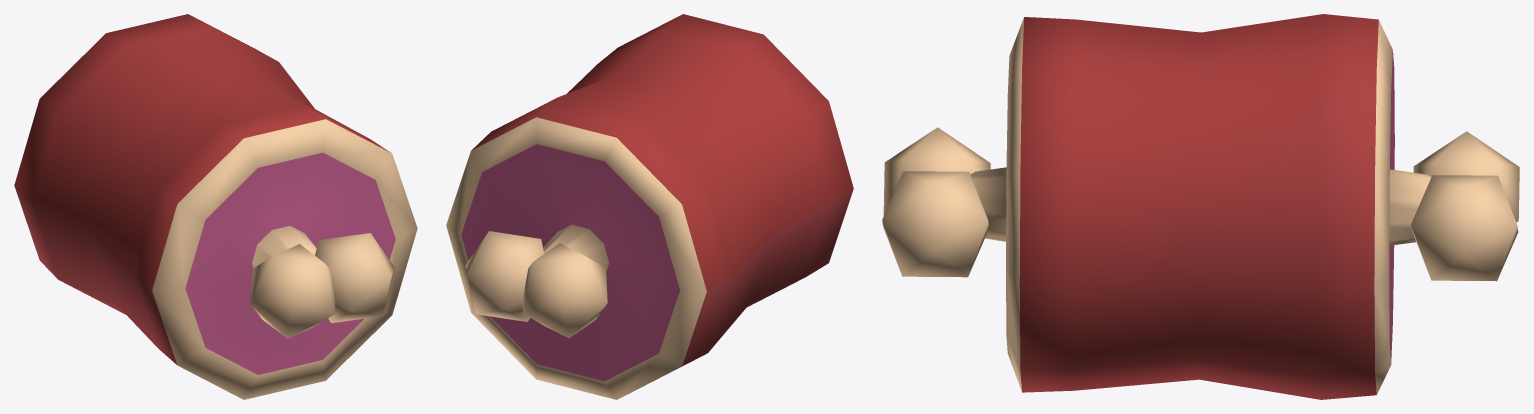
File: Beef Bone Piece.fbx
The picture shows the model from 3 angles, left to right: view 1: azimuth 30°, elevation 25°; view 2: azimuth 150°, elevation 25°; view 3: azimuth 270°, elevation 25°; orthographic projection. The views are drawn at different scales.
Visible parts, largest first — view 1: Beef Bone Piece; view 2: Beef Bone Piece; view 3: Beef Bone Piece.
Part boxes in pixels (box(x1,y1,x2,y2)): Beef Bone Piece: box(14, 14, 417, 399); Beef Bone Piece: box(446, 14, 853, 399); Beef Bone Piece: box(882, 14, 1519, 399).
Bounding box in the file's own units: 23.49 × 22.34 × 38.51.
